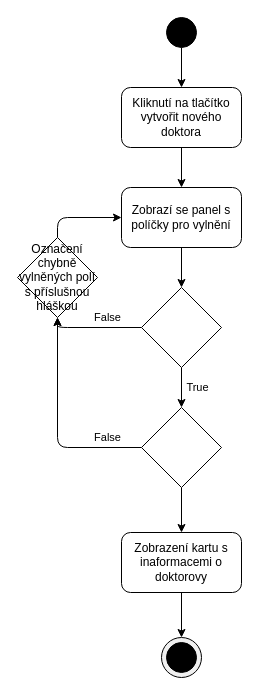
Image size: 259x695. Some labels were removed from this diagram. The shapes that lost their labels are listed below. From the top down, each one's centre as x and y in pixels, then its label:
the point at 181,327: Validace zadaných udajů
the point at 181,447: Porovnání rodného čísla s databází jestli doktor již neexistuje
